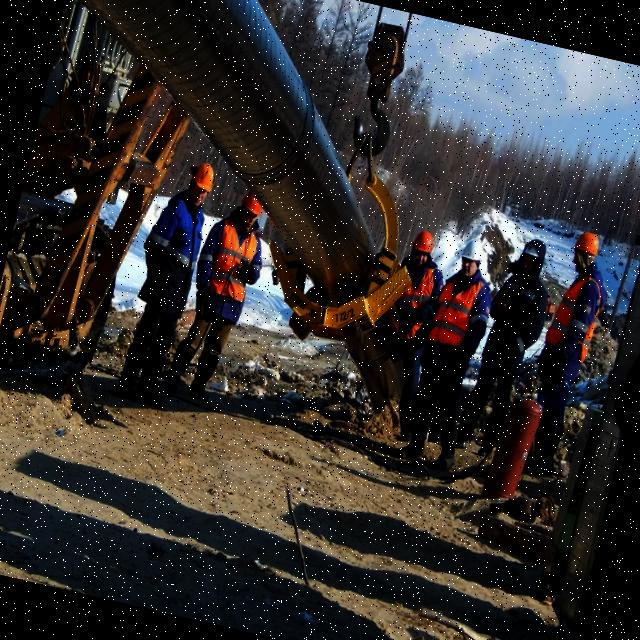Helmet: (187, 160, 220, 199), (458, 237, 489, 272), (409, 228, 438, 264), (573, 231, 604, 261), (237, 192, 267, 222), (522, 245, 540, 263)
Jacket: (547, 271, 610, 378), (201, 217, 267, 314), (432, 270, 493, 355), (392, 261, 442, 344)
NoJacket: (150, 197, 210, 311), (489, 269, 545, 359)
